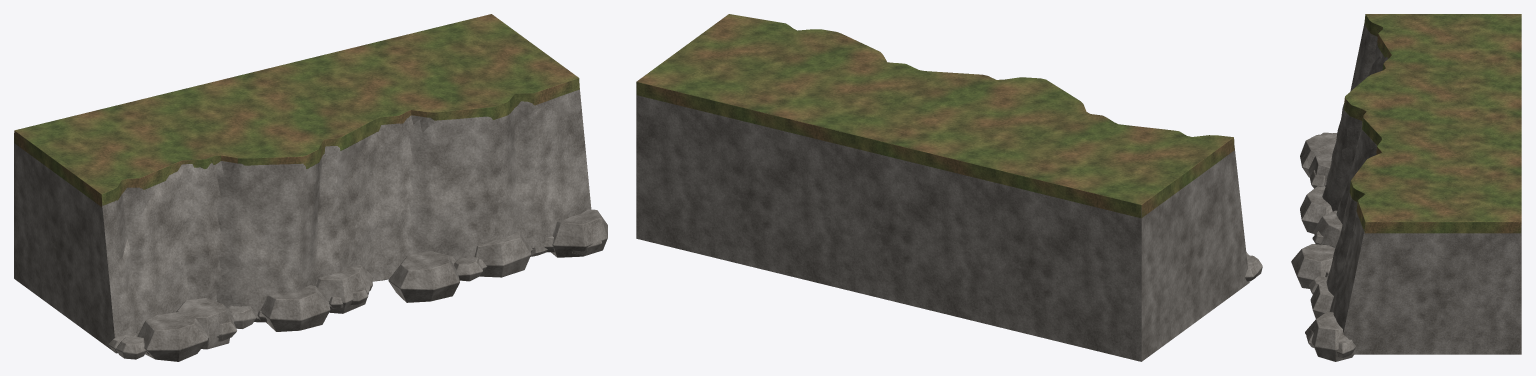
File: cliff_rocks-LOD1.glb
3 renders of one model, left to right at view 1: azimuth 30°, elevation 25°; view 2: azimuth 150°, elevation 25°; view 3: azimuth 270°, elevation 25°, orthographic. The views are drawn at different scales.
Parts seen in each view (by area): view 1: Continuous angular escarpment bedrock, Continuous soil and grass cliff crest; view 2: Continuous angular escarpment bedrock, Continuous soil and grass cliff crest; view 3: Continuous soil and grass cliff crest, Continuous angular escarpment bedrock.
Part boxes in pixels (<box>): Continuous angular escarpment bedrock: <box>14,88,607,361</box>; Continuous soil and grass cliff crest: <box>14,14,579,206</box>; Continuous angular escarpment bedrock: <box>636,84,1262,361</box>; Continuous soil and grass cliff crest: <box>636,14,1234,218</box>; Continuous soil and grass cliff crest: <box>1344,14,1521,233</box>; Continuous angular escarpment bedrock: <box>1291,24,1521,361</box>.
Size of the model in its own units: 12.52 by 3.73 by 5.62.
2 materials, 2 textured.
